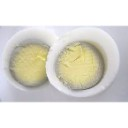begg: (46, 25, 120, 97)
